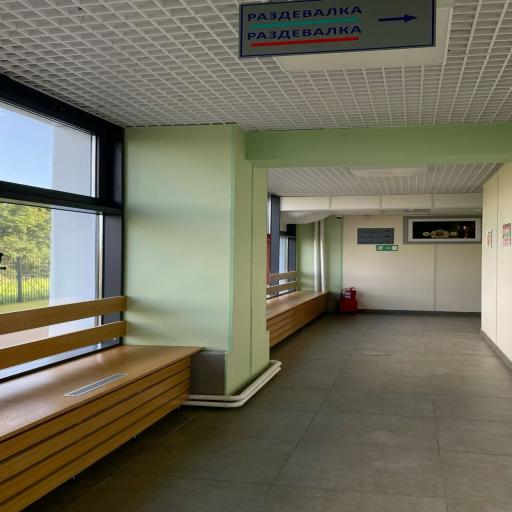car: (0, 63, 512, 512)
trash_bin: (0, 289, 208, 512), (257, 267, 335, 354)
